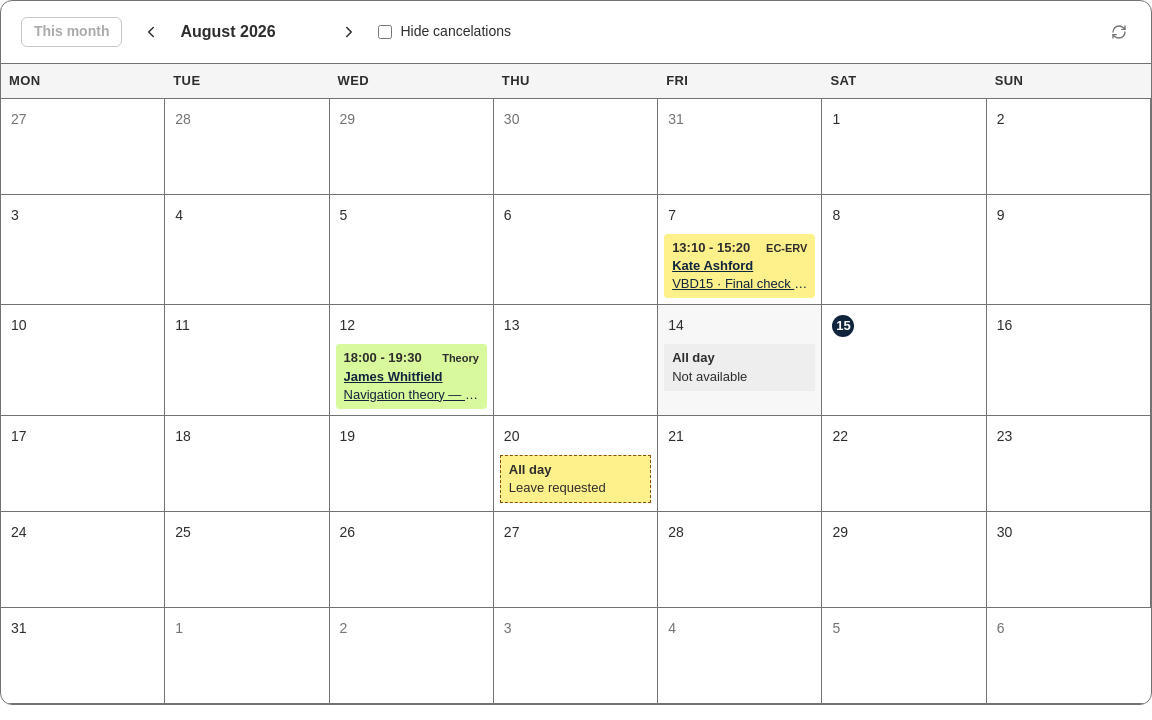
it: disables the This month button when already on the current month
The image size is (1152, 720).
Expected: the button "This month" is disabled, x1=21 y1=17 x2=122 y2=47
Click the button named "Next month". click: (349, 32)
box: x1=336 y1=19 x2=362 y2=45
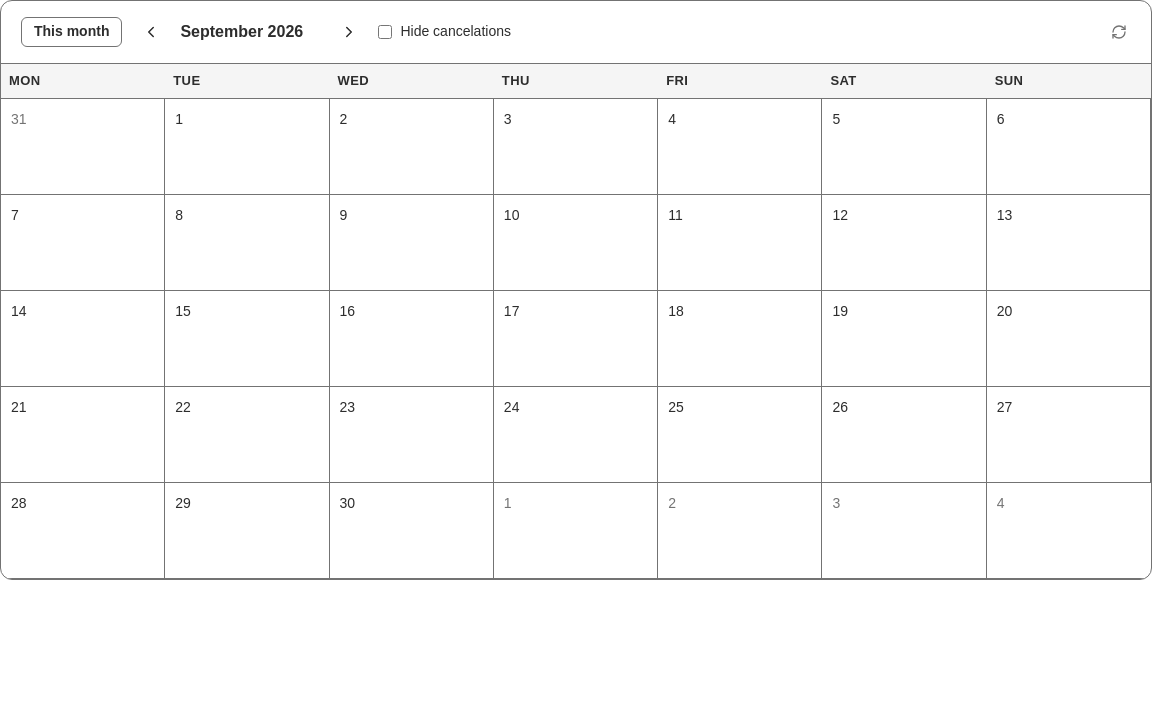
Expected: the button "This month" is enabled, x1=21 y1=17 x2=122 y2=47
